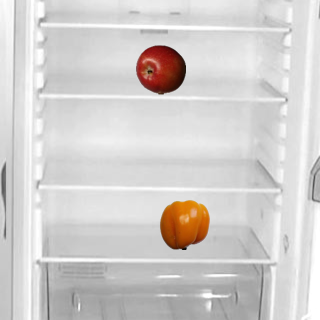Apple Braeburn: (135, 44, 185, 94)
Pepper Yellow: (159, 199, 209, 249)
